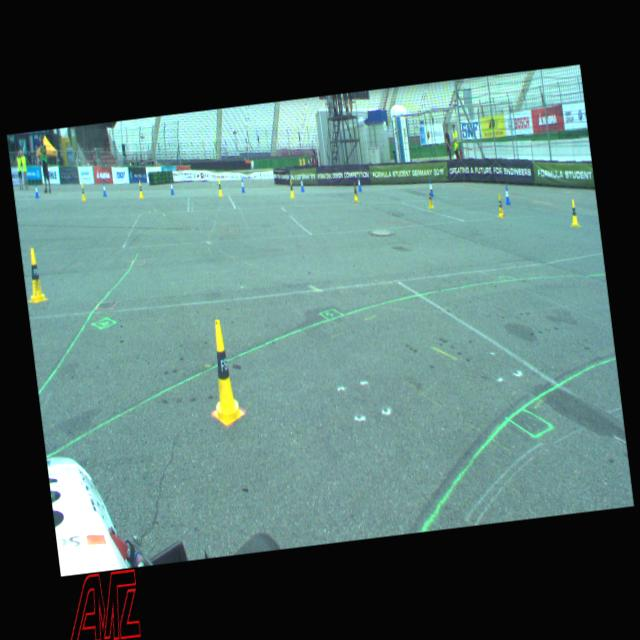blue_cone: (502, 184, 510, 205), (426, 178, 434, 196), (32, 182, 38, 198), (356, 174, 362, 190), (299, 176, 305, 192), (240, 178, 246, 192), (168, 180, 174, 193), (102, 181, 106, 196)
yellow_cone: (200, 318, 244, 428), (23, 247, 48, 304), (568, 198, 580, 228), (496, 192, 504, 218), (426, 188, 434, 208), (136, 180, 144, 198), (288, 179, 295, 198), (216, 178, 223, 196), (352, 182, 358, 202), (80, 182, 86, 200)
